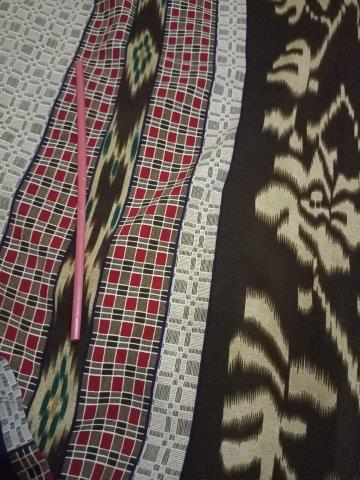sedotan: (71, 61, 86, 339)
